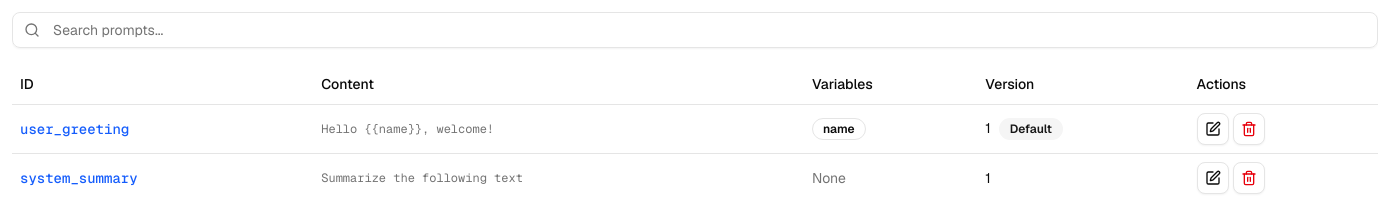
Test: PromptList › Search Functionality › filters prompts by content
Type "welcome" into the field with placeholder "Search prompts...". click: {"x": 695, "y": 30}
box: [12, 12, 1378, 48]
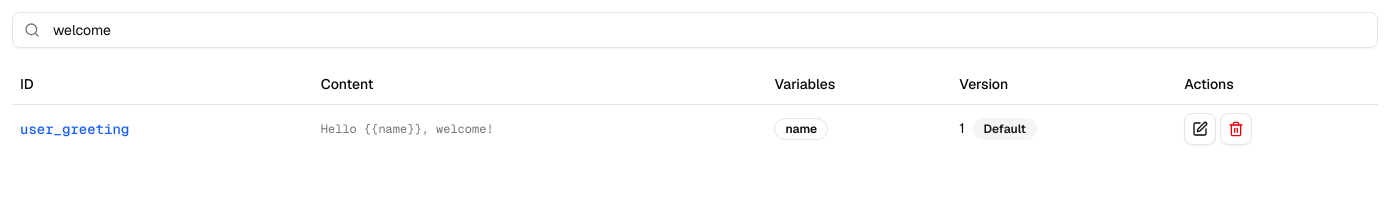
expect the text "user_greeting" is shown: met, box [20, 118, 129, 138]
expect the button "system_summary" is gone: met
